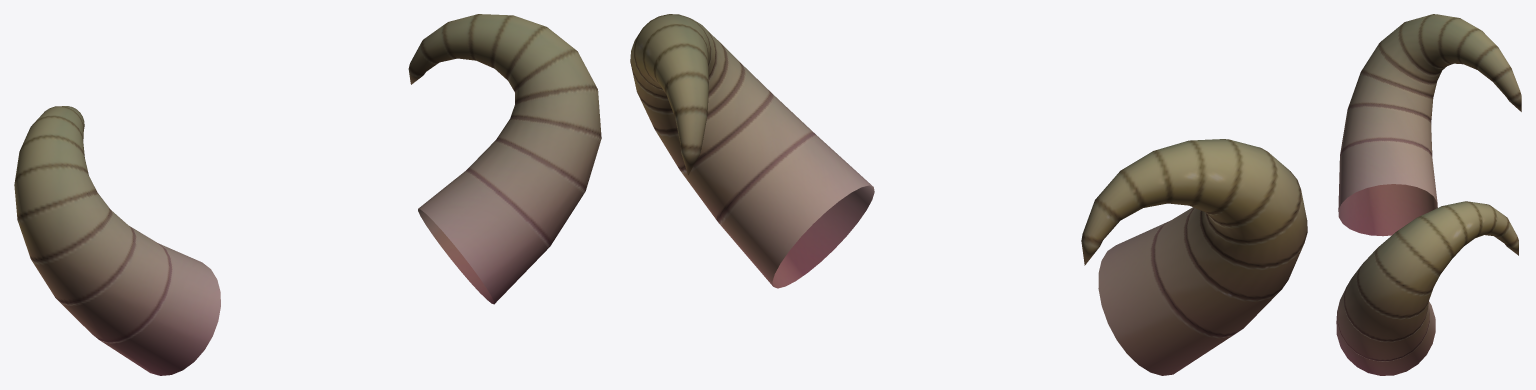
The model's file is Horns_low.fbx.
3 views of the same model, side by side, from view 1: azimuth 30°, elevation 25°; view 2: azimuth 150°, elevation 25°; view 3: azimuth 270°, elevation 25° (orthographic). The views are drawn at different scales.
Visible parts, largest first — view 1: Horns_low; view 2: Horns_low; view 3: Horns_low.
Boxes of the visible parts, x1,y1,x2,y2 form: Horns_low: (14, 14, 601, 375); Horns_low: (630, 14, 1307, 375); Horns_low: (1336, 14, 1521, 375).
Size of the model in its own units: 90.73 by 37.43 by 31.14.
